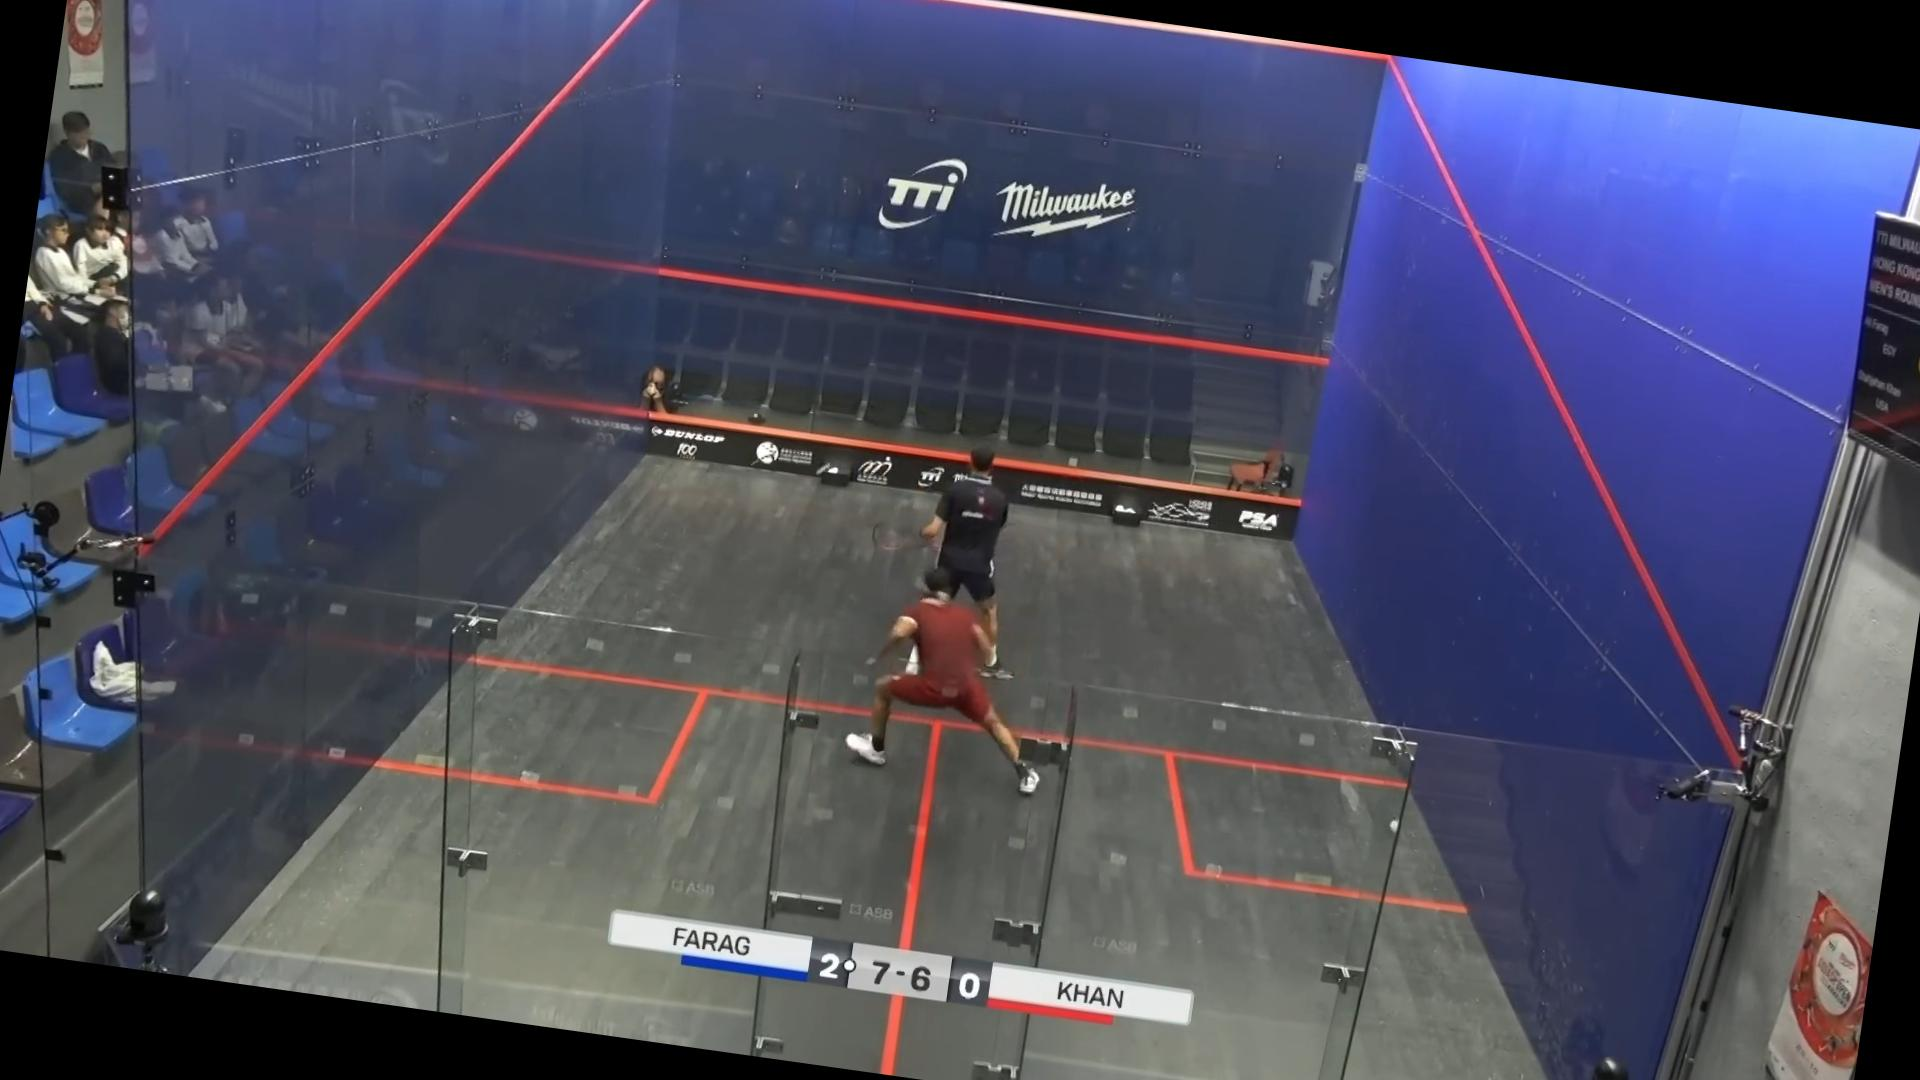Racket: (862, 517, 928, 556)
